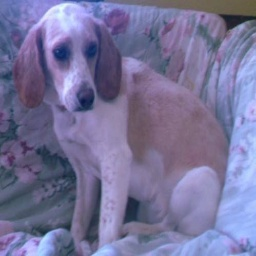dog: (7, 6, 229, 242)
